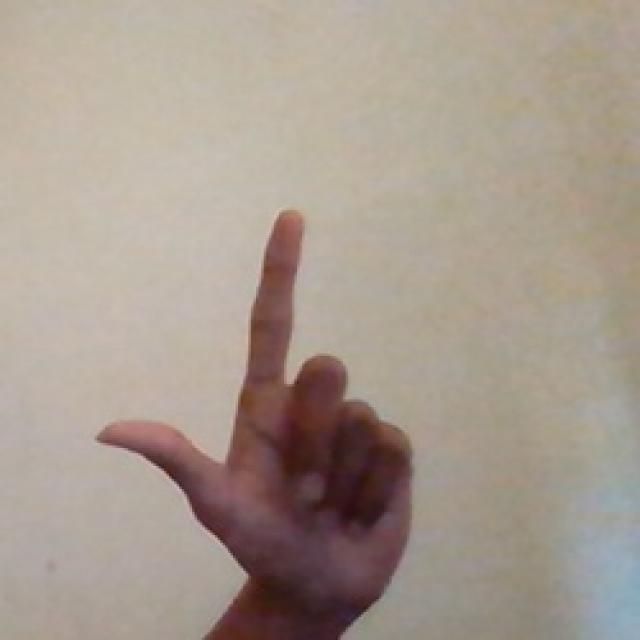Alphabet-L: (95, 169, 415, 622)
